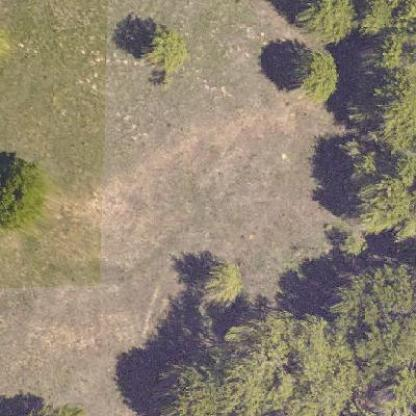tree-top: (159, 315, 361, 412), (325, 261, 415, 370), (349, 70, 415, 150), (0, 146, 49, 235), (345, 167, 415, 229), (135, 24, 203, 85), (275, 45, 342, 103), (185, 254, 245, 310), (293, 0, 358, 43), (324, 138, 378, 188), (323, 217, 374, 260), (369, 32, 409, 68), (356, 0, 395, 33)
